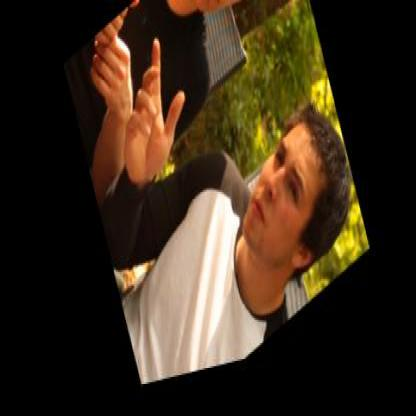knife: (101, 0, 176, 52)
